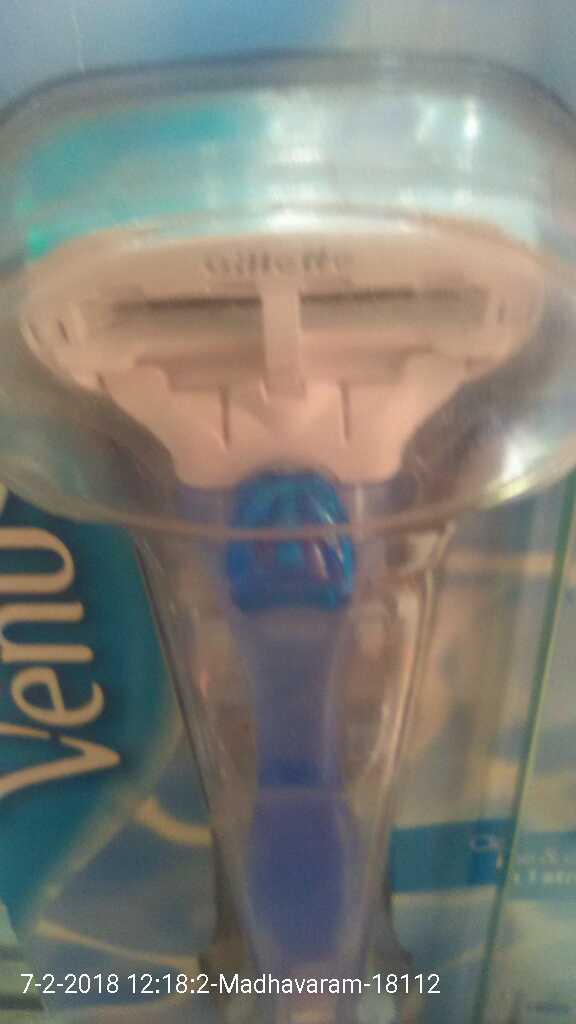venus: (3, 33, 576, 951)
